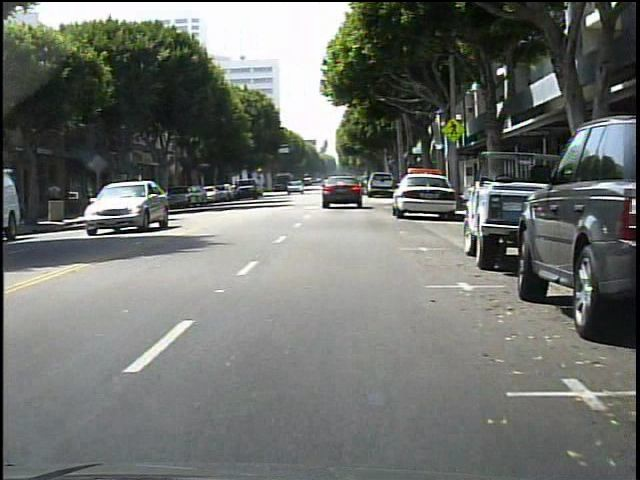person: (47, 179, 65, 221)
